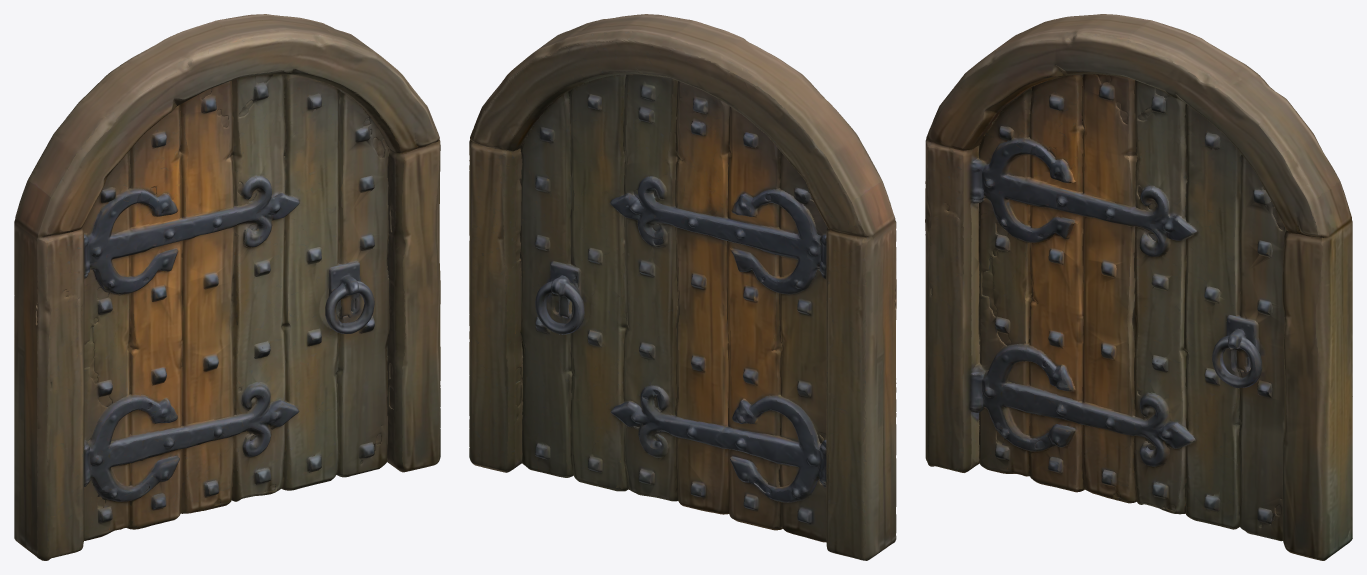
File: dining-table.glb
The picture shows the model from 3 angles, left to right: view 1: azimuth 30°, elevation 25°; view 2: azimuth 150°, elevation 25°; view 3: azimuth 330°, elevation 25°; orthographic projection.
Parts seen in each view (by area): view 1: geometry_0; view 2: geometry_0; view 3: geometry_0.
Part boxes in pixels (x1,y1,x2,y2): geometry_0: (14, 14, 440, 560); geometry_0: (469, 14, 896, 560); geometry_0: (925, 14, 1352, 560).
Size of the model in its own units: 1.8 by 2.02 by 0.2758.
Materials: 1 (1 with a texture image).
